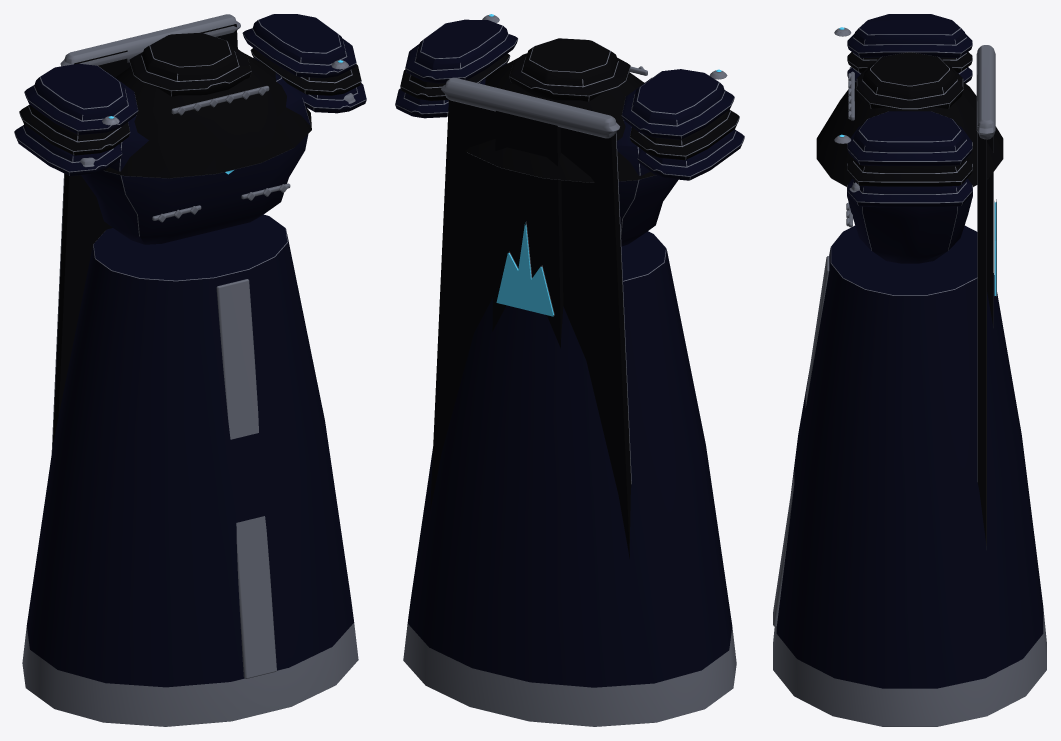
File: Ecos_Armadura.fbx
The picture shows the model from 3 angles, left to right: view 1: azimuth 30°, elevation 25°; view 2: azimuth 150°, elevation 25°; view 3: azimuth 270°, elevation 25°; orthographic projection. The views are drawn at different scales.
Visible parts, largest first — view 1: Piece; view 2: Piece; view 3: Piece.
Boxes of the visible parts, bbox=[...] form: Piece: bbox=[14, 14, 366, 726]; Piece: bbox=[395, 14, 744, 726]; Piece: bbox=[773, 14, 1046, 726].
Size of the model in its own units: 0.7802 by 1.45 by 0.611.
